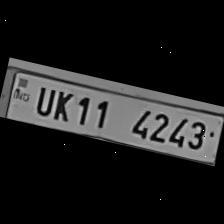1: (85, 94, 118, 132), (68, 90, 96, 128)
2: (145, 107, 171, 144)
3: (182, 116, 208, 153)
4: (123, 102, 156, 141), (164, 112, 190, 148)
K: (48, 86, 78, 124)
U: (29, 82, 58, 119)
